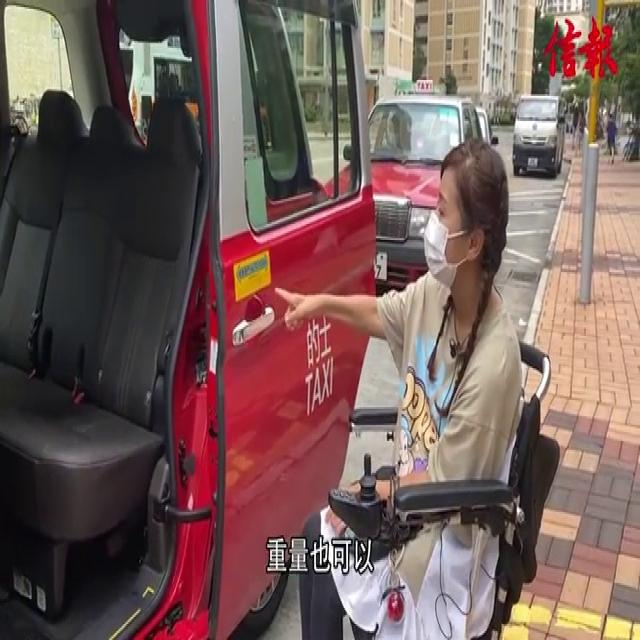wheelchairs: (313, 291, 569, 640)
